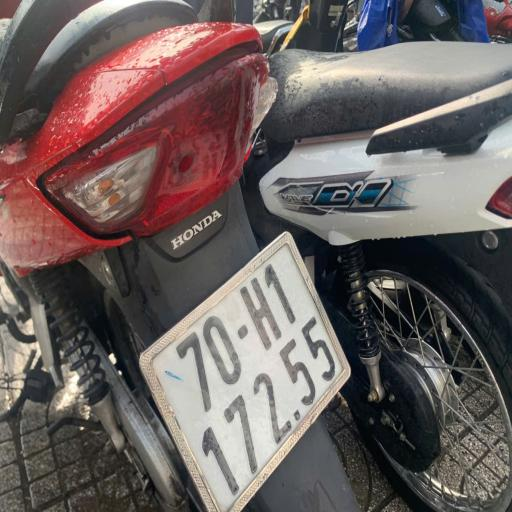0: (202, 314, 246, 394)
1: (189, 422, 242, 510), (265, 256, 305, 330)
2: (244, 367, 293, 447)
5: (275, 334, 315, 412), (302, 312, 336, 375)
7: (173, 326, 217, 419), (225, 396, 263, 480)
H: (234, 273, 284, 364)
